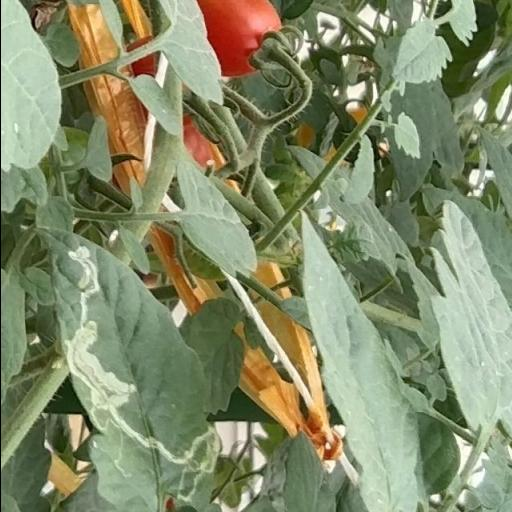disease_tomato: (46, 224, 222, 512)
